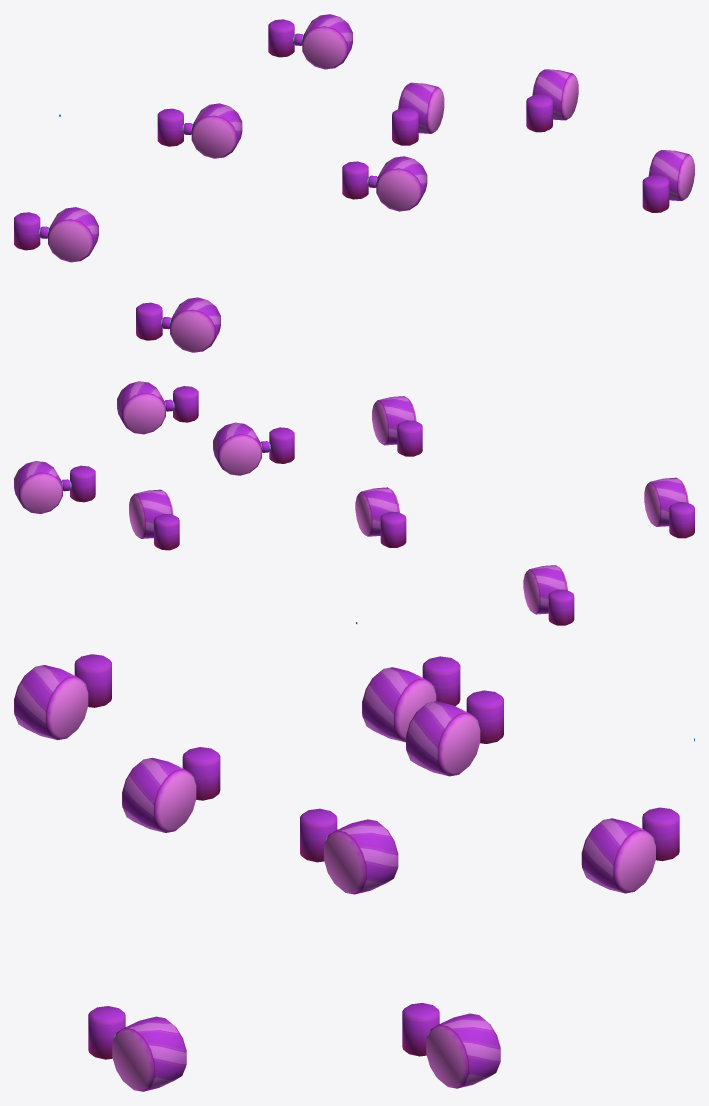
Rendered from moradosgirando.fbx.
3 renders of one model, top to bottom at view 1: azimuth 30°, elevation 25°; view 2: azimuth 150°, elevation 25°; view 3: azimuth 270°, elevation 25°, orthographic. The views are drawn at different scales.
Parts seen in each view (by area): view 1: SpinnyHammer.001_SpinnyHammer2_0, SpinnyHammer.005_SpinnyHammer2_0, SpinnyHammer.013_SpinnyHammer2_0, SpinnyHammer.015_SpinnyHammer2_0, SpinnyHammer.007_SpinnyHammer2_0, SpinnyHammer.009_SpinnyHammer2_0, SpinnyHammer.011_SpinnyHammer2_0, SpinnyHammer.003_SpinnyHammer2_0; view 2: SpinnyHammer.009_SpinnyHammer2_0, SpinnyHammer.003_SpinnyHammer2_0, SpinnyHammer.011_SpinnyHammer2_0, SpinnyHammer.015_SpinnyHammer2_0, SpinnyHammer.005_SpinnyHammer2_0, SpinnyHammer.007_SpinnyHammer2_0, SpinnyHammer.001_SpinnyHammer2_0, SpinnyHammer.013_SpinnyHammer2_0; view 3: SpinnyHammer.001_SpinnyHammer2_0, SpinnyHammer.011_SpinnyHammer2_0, SpinnyHammer.009_SpinnyHammer2_0, SpinnyHammer.003_SpinnyHammer2_0, SpinnyHammer.007_SpinnyHammer2_0, SpinnyHammer.005_SpinnyHammer2_0, SpinnyHammer.013_SpinnyHammer2_0, SpinnyHammer.015_SpinnyHammer2_0.
Part boxes in pixels (<box>): SpinnyHammer.001_SpinnyHammer2_0: <box>342,156,427,211</box>; SpinnyHammer.005_SpinnyHammer2_0: <box>157,103,242,158</box>; SpinnyHammer.013_SpinnyHammer2_0: <box>136,297,220,352</box>; SpinnyHammer.015_SpinnyHammer2_0: <box>14,207,98,262</box>; SpinnyHammer.007_SpinnyHammer2_0: <box>268,14,352,69</box>; SpinnyHammer.009_SpinnyHammer2_0: <box>642,150,694,212</box>; SpinnyHammer.011_SpinnyHammer2_0: <box>526,69,578,132</box>; SpinnyHammer.003_SpinnyHammer2_0: <box>392,82,444,145</box>; SpinnyHammer.009_SpinnyHammer2_0: <box>117,381,198,434</box>; SpinnyHammer.003_SpinnyHammer2_0: <box>213,422,294,475</box>; SpinnyHammer.011_SpinnyHammer2_0: <box>14,461,95,513</box>; SpinnyHammer.015_SpinnyHammer2_0: <box>523,565,574,625</box>; SpinnyHammer.005_SpinnyHammer2_0: <box>355,487,406,547</box>; SpinnyHammer.007_SpinnyHammer2_0: <box>129,489,179,550</box>; SpinnyHammer.001_SpinnyHammer2_0: <box>372,396,422,456</box>; SpinnyHammer.013_SpinnyHammer2_0: <box>644,477,694,538</box>; SpinnyHammer.001_SpinnyHammer2_0: <box>122,747,220,832</box>; SpinnyHammer.011_SpinnyHammer2_0: <box>402,1003,500,1088</box>; SpinnyHammer.009_SpinnyHammer2_0: <box>88,1006,186,1091</box>; SpinnyHammer.003_SpinnyHammer2_0: <box>300,808,398,894</box>; SpinnyHammer.007_SpinnyHammer2_0: <box>581,807,679,893</box>; SpinnyHammer.005_SpinnyHammer2_0: <box>406,690,503,776</box>; SpinnyHammer.013_SpinnyHammer2_0: <box>14,654,111,740</box>; SpinnyHammer.015_SpinnyHammer2_0: <box>362,656,460,742</box>.
Size of the model in its own units: 2077 by 344 by 1509.
Materials: 2 (1 with a texture image).
